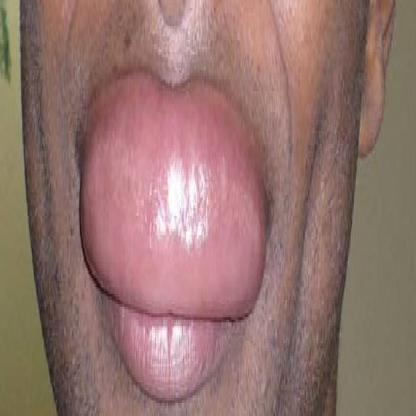Wasp: (72, 78, 276, 322)
